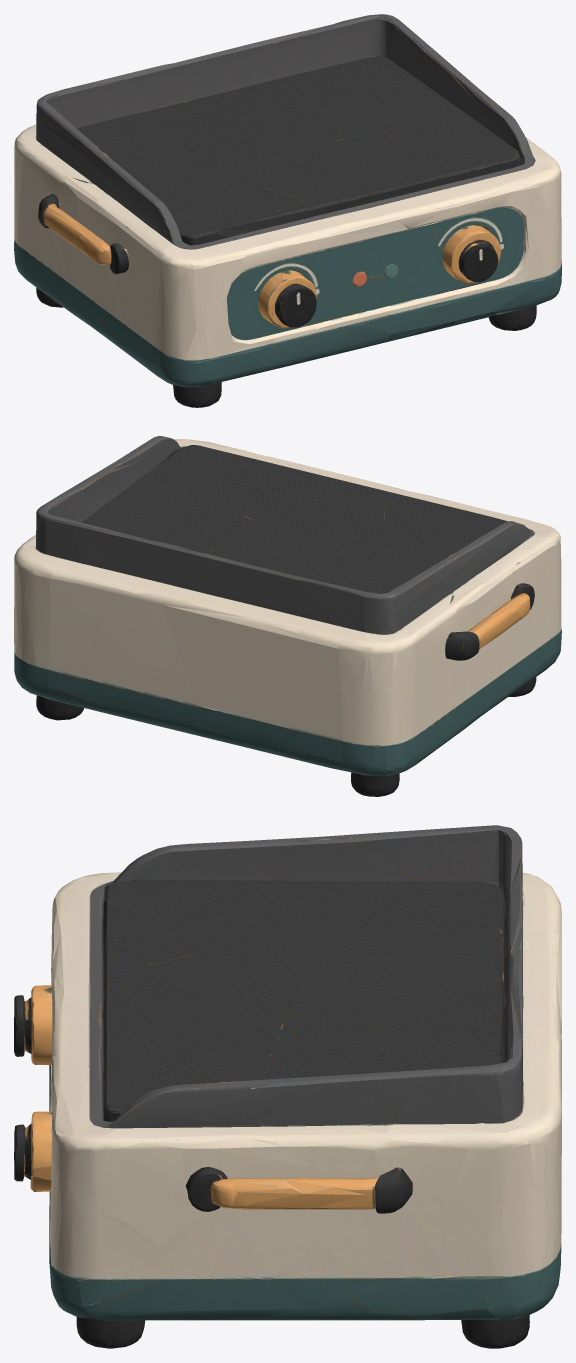
File: rounded-restaurant-flat-griddle-clean.glb
3 renders of one model, top to bottom at view 1: azimuth 30°, elevation 25°; view 2: azimuth 150°, elevation 25°; view 3: azimuth 270°, elevation 25°, orthographic. The views are drawn at different scales.
Visible parts, largest first — view 1: Mesh_0; view 2: Mesh_0; view 3: Mesh_0.
Boxes of the visible parts, left/top/right/bottom form: Mesh_0: left=14, top=14, right=561, bottom=407; Mesh_0: left=14, top=436, right=561, bottom=796; Mesh_0: left=14, top=825, right=561, bottom=1348.
Bounding box in the file's own units: 0.6805 × 0.3 × 0.5232.
1 material, 1 textured.
